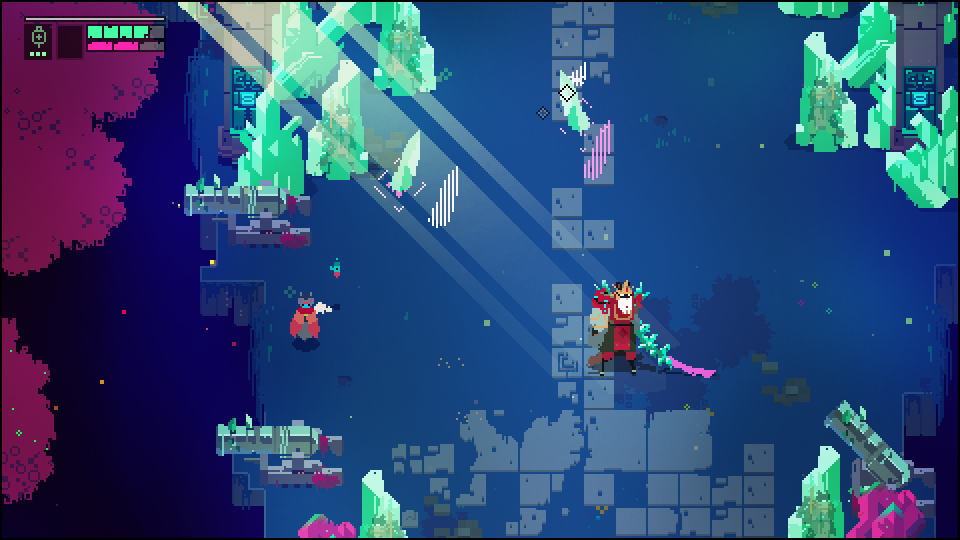hanged_crys: (423, 162, 461, 226), (579, 112, 613, 182), (389, 127, 421, 193), (556, 66, 590, 128)
hanged_man: (588, 279, 679, 373)
player: (289, 289, 322, 344)
